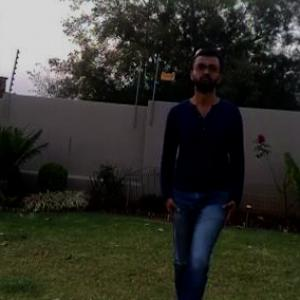follow: (152, 27, 253, 299)
